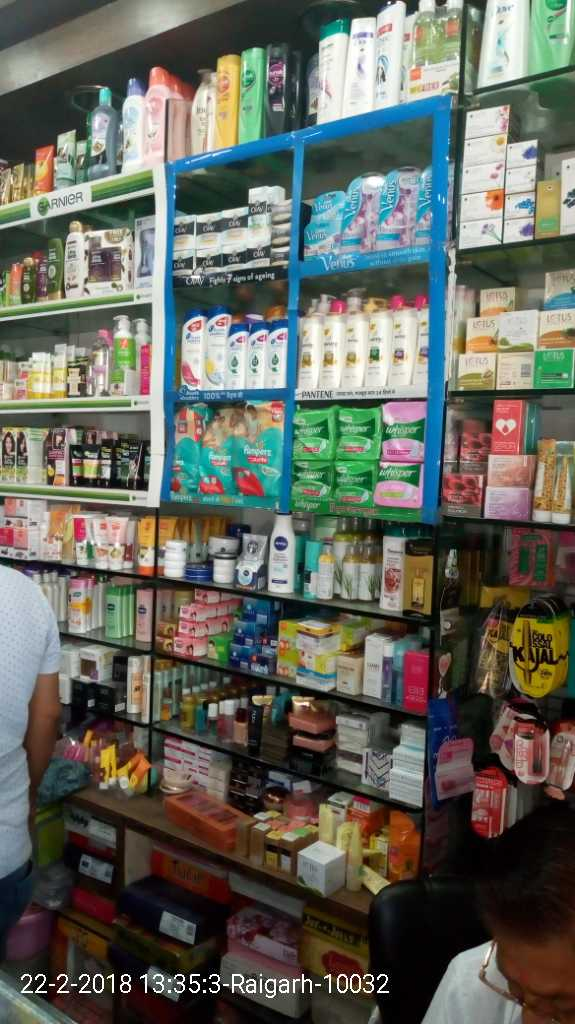venus: (413, 160, 455, 246), (340, 172, 380, 249), (380, 172, 413, 246), (309, 193, 340, 249)
